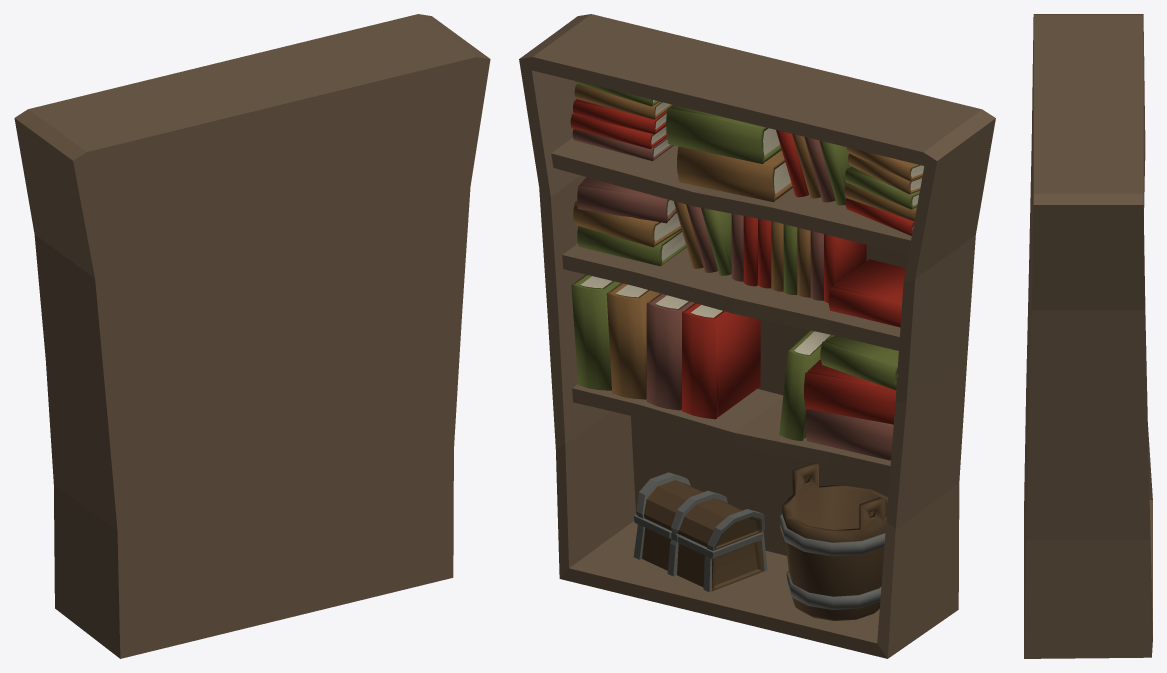
Rendered from LowPolyDungeonBookshelf.glb.
3 views of the same model, side by side, from view 1: azimuth 30°, elevation 25°; view 2: azimuth 150°, elevation 25°; view 3: azimuth 270°, elevation 25° (orthographic). The views are drawn at different scales.
Parts seen in each view (by area): view 1: Shelf.001; view 2: Shelf.001, Bucket.002, Book_Big_DeepRed.001, ChestSmall_Lid.001, ChestSmall.001, Book_Big_Brown.001, Book_Big_Green.002, Book_Big_Brown.002, Book_Big_Red.001, Book_Big_Green.001, Book_Big_DeepRed.002, Book_DeepRed.001 (+30 smaller); view 3: Shelf.001.
Boxes of the visible parts, x1=… form: Shelf.001: x1=14, y1=14, x2=490, y2=658; Shelf.001: x1=519, y1=14, x2=995, y2=658; Bucket.002: x1=779, y1=462, x2=887, y2=620; Book_Big_DeepRed.001: x1=682, y1=303, x2=760, y2=419; ChestSmall_Lid.001: x1=636, y1=472, x2=765, y2=550; ChestSmall.001: x1=633, y1=514, x2=767, y2=592; Book_Big_Brown.001: x1=606, y1=283, x2=660, y2=399; Book_Big_Green.002: x1=666, y1=105, x2=781, y2=163; Book_Big_Brown.002: x1=677, y1=146, x2=792, y2=202; Book_Big_Red.001: x1=646, y1=293, x2=694, y2=410; Book_Big_Green.001: x1=571, y1=274, x2=620, y2=390; Book_Big_DeepRed.002: x1=804, y1=359, x2=896, y2=424; Book_DeepRed.001: x1=828, y1=259, x2=905, y2=327; Shelf.001: x1=1024, y1=14, x2=1152, y2=658.
Bounding box in the file's own units: 1.99 × 2.33 × 0.5686.
8 materials, 8 textured.
